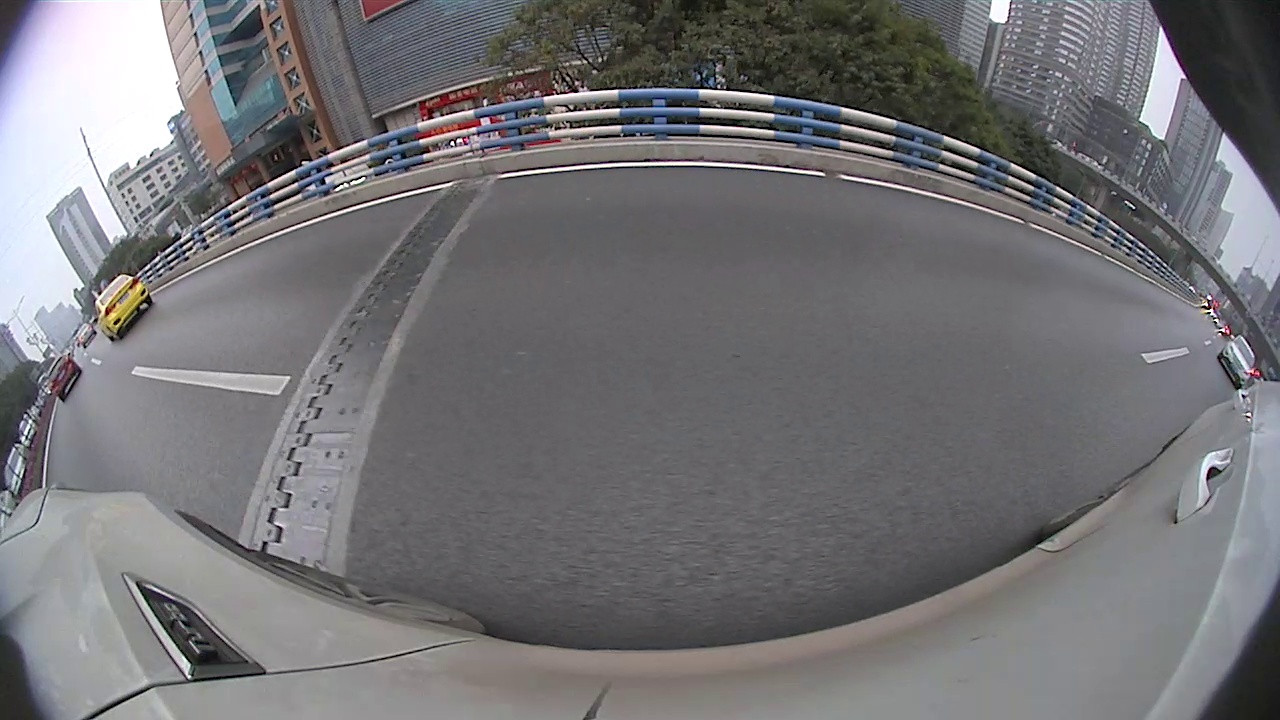bus: (713, 132, 800, 179), (310, 165, 424, 196), (670, 143, 698, 173)
car: (67, 167, 413, 389), (579, 129, 683, 220), (456, 154, 541, 209), (542, 158, 576, 189)
front: (378, 213, 410, 256)
rear: (173, 286, 248, 372), (516, 180, 524, 203)
